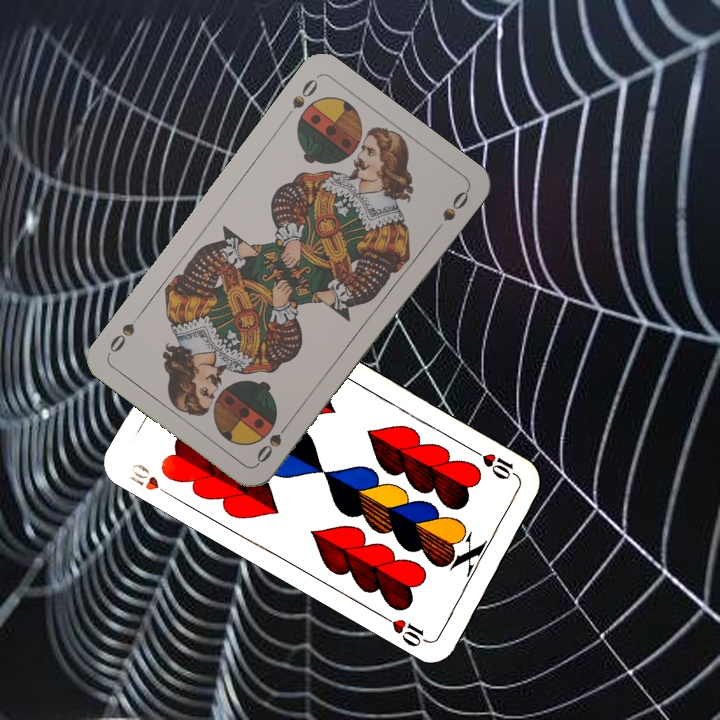H10: (126, 459, 177, 501), (469, 445, 523, 483)
SO: (252, 416, 294, 467), (280, 74, 321, 123)
